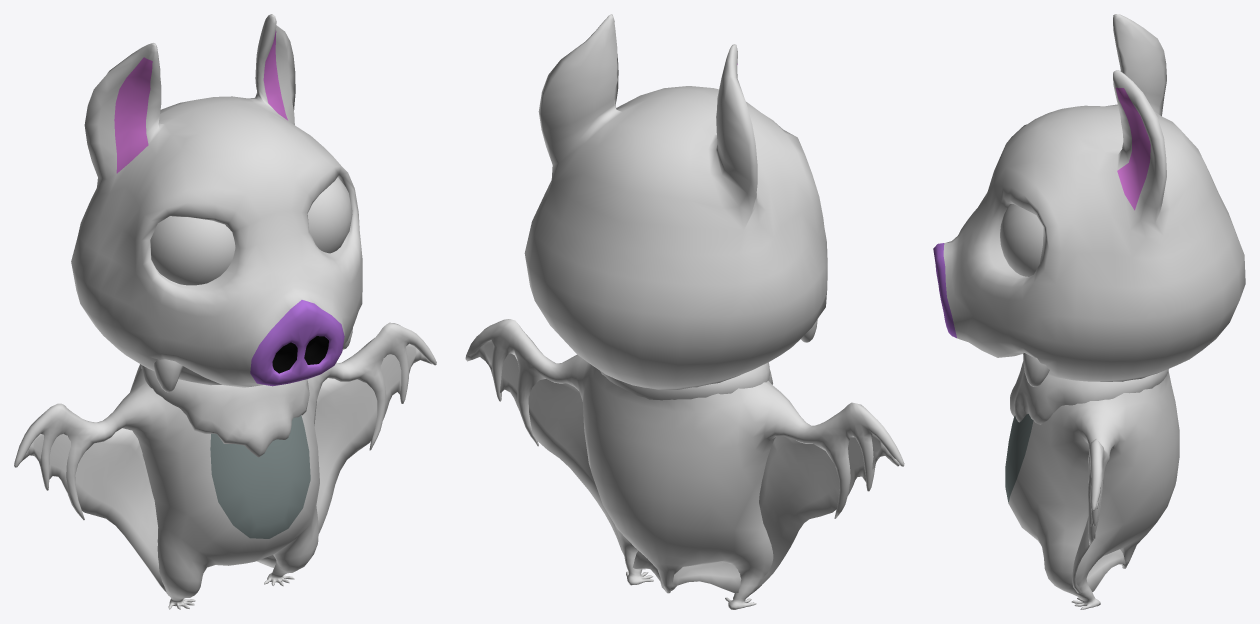
Rendered from Bat Low CB.fbx.
The picture shows the model from 3 angles, left to right: view 1: azimuth 30°, elevation 25°; view 2: azimuth 150°, elevation 25°; view 3: azimuth 270°, elevation 25°; orthographic projection. The views are drawn at different scales.
Parts seen in each view (by area): view 1: Body Low, EYE; view 2: Body Low; view 3: Body Low, EYE.
Part boxes in pixels (x1,y1,x2,y2): Body Low: [14, 14, 436, 609]; EYE: [150, 177, 352, 285]; Body Low: [465, 14, 904, 609]; Body Low: [933, 14, 1245, 609]; EYE: [1000, 204, 1043, 276].
Bounding box in the file's own units: 2.58 × 3.24 × 1.7.
